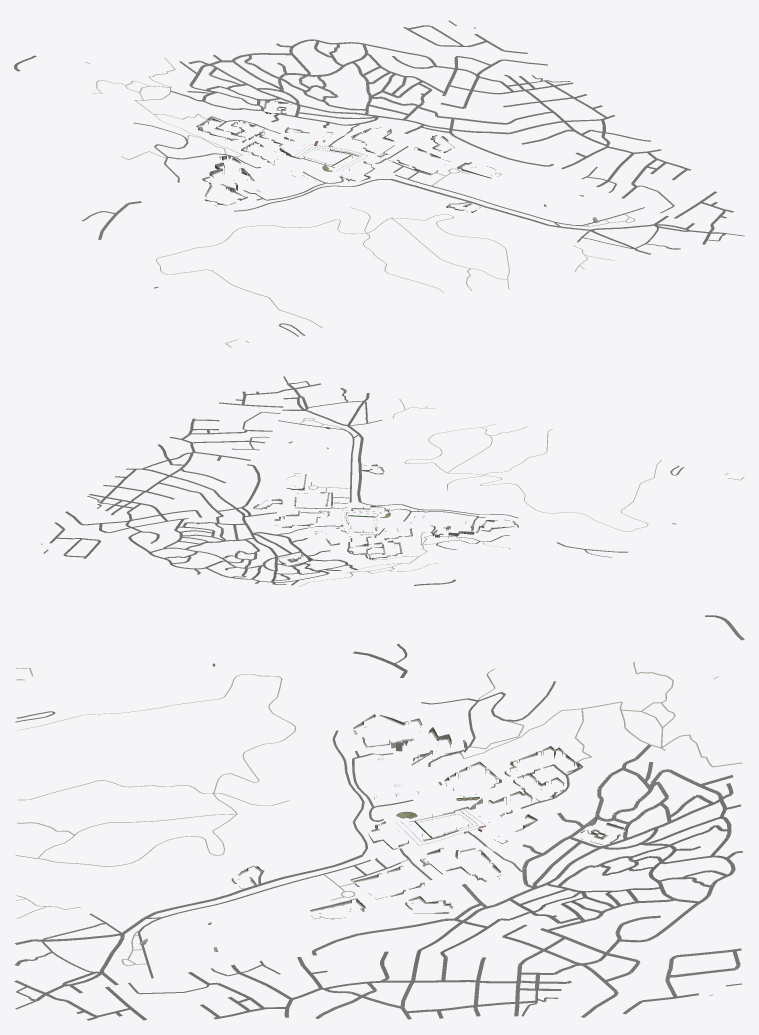
The picture shows the model from 3 angles, top to bottom: view 1: azimuth 30°, elevation 25°; view 2: azimuth 150°, elevation 25°; view 3: azimuth 270°, elevation 25°; orthographic projection. The views are drawn at different scales.
Visible parts, largest first — view 1: skku-asphalt-overlay, skku-paving-overlay, skku-stonebank, skku-paving; view 2: skku-asphalt-overlay, skku-paving-overlay, skku-stonebank, skku-paving; view 3: skku-asphalt-overlay, skku-paving-overlay, skku-stonebank, skku-paving.
Part boxes in pixels (x1,y1,x2,y2): skku-asphalt-overlay: [14, 20, 744, 336]; skku-paving-overlay: [92, 57, 635, 347]; skku-stonebank: [196, 101, 491, 212]; skku-paving: [198, 101, 471, 209]; skku-asphalt-overlay: [43, 376, 684, 585]; skku-paving-overlay: [299, 399, 744, 586]; skku-stonebank: [253, 464, 518, 565]; skku-paving: [254, 465, 517, 563]; skku-asphalt-overlay: [14, 615, 744, 1020]; skku-paving-overlay: [15, 661, 742, 966]; skku-stonebank: [231, 714, 623, 913]; skku-paving: [233, 715, 623, 911].
Bounding box in the file's own units: 967 × 140 × 880.
31 materials, 4 textured.
